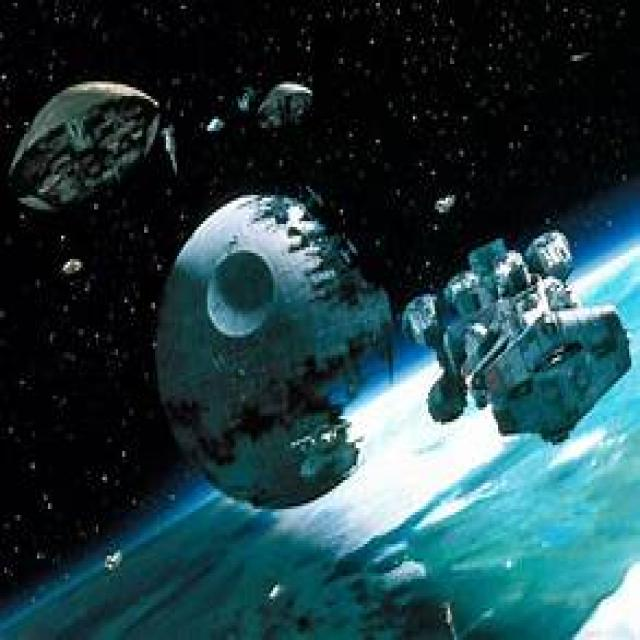deathStar: (148, 176, 408, 519)
